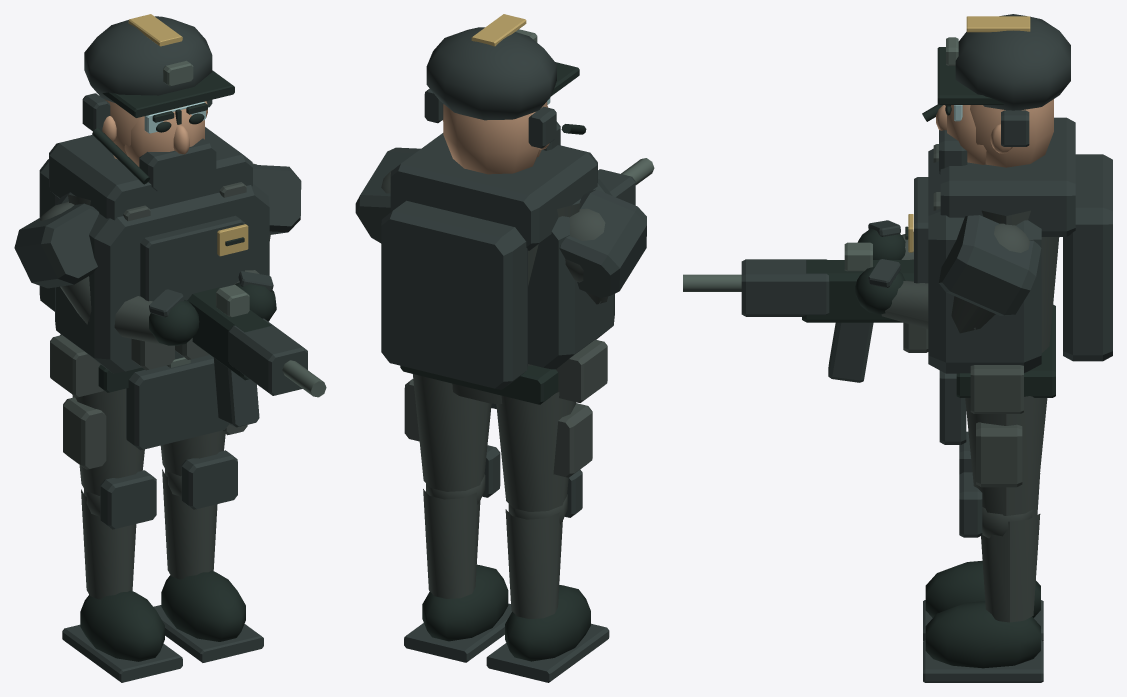
The model's file is sentry.glb.
3 renders of one model, left to right at view 1: azimuth 30°, elevation 25°; view 2: azimuth 150°, elevation 25°; view 3: azimuth 270°, elevation 25°, orthographic. The views are drawn at different scales.
Parts seen in each view (by area): view 1: Torso_details (×3), Head_details (×3), Carbine_details (×3), Boot (×2), Calf (×2), ShoulderPlate (×2), LegL_details, ShinL_details, ShinR_details, Glove (×2), LegR_details, ForearmL_details (+5 smaller); view 2: Torso_details (×3), Head_details (×3), Calf (×2), LegL_details, LegR_details, Boot (×2), ShoulderPlate (×2), ShinL_details, ShinR_details, Carbine_details (×2), ArmL_details, HelmetMarker; view 3: Torso_details (×3), Head_details (×3), Carbine_details (×3), Boot (×2), LegR_details, ShoulderPlate, Calf, ShinR_details, Glove (×2), ArmR_details, ForearmR_details, HelmetMarker (+2 smaller).
Part boxes in pixels (<box>): Torso_details (×3): <box>39,127,269,450</box>; Head_details (×3): <box>82,16,234,190</box>; Carbine_details (×3): <box>187,284,326,427</box>; Boot (×2): <box>80,570,245,661</box>; Calf (×2): <box>81,469,217,599</box>; ShoulderPlate (×2): <box>14,164,301,288</box>; LegL_details: <box>63,388,144,517</box>; ShinL_details: <box>62,470,182,682</box>; ShinR_details: <box>153,450,263,662</box>; Glove (×2): <box>149,282,276,345</box>; LegR_details: <box>160,424,247,497</box>; ForearmL_details: <box>78,296,163,344</box>; Torso_details (×3): <box>381,133,614,408</box>; Head_details (×3): <box>424,27,586,174</box>; Calf (×2): <box>423,489,562,618</box>; LegL_details: <box>496,392,592,524</box>; LegR_details: <box>404,374,491,504</box>; Boot (×2): <box>422,564,590,661</box>; ShoulderPlate (×2): <box>355,147,646,297</box>; ShinL_details: <box>486,469,609,682</box>; ShinR_details: <box>404,445,511,662</box>; Carbine_details (×2): <box>598,158,654,205</box>; ArmL_details: <box>565,208,608,304</box>; HelmetMarker: <box>471,14,526,46</box>; Torso_details (×3): <box>903,117,1112,444</box>; Head_details (×3): <box>922,14,1070,174</box>; Carbine_details (×3): <box>683,242,913,382</box>; Boot (×2): <box>925,560,1040,668</box>; LegR_details: <box>965,396,1047,538</box>; ShoulderPlate: <box>939,215,1041,315</box>; Calf: <box>981,514,1040,622</box>; ShinR_details: <box>923,472,1043,682</box>; Glove (×2): <box>855,228,905,314</box>; ArmR_details: <box>951,223,1029,333</box>; ForearmR_details: <box>881,280,975,329</box>; HelmetMarker: <box>966,16,1030,32</box>.
Bounding box in the file's own units: 0.866 × 1.96 × 1.21.
